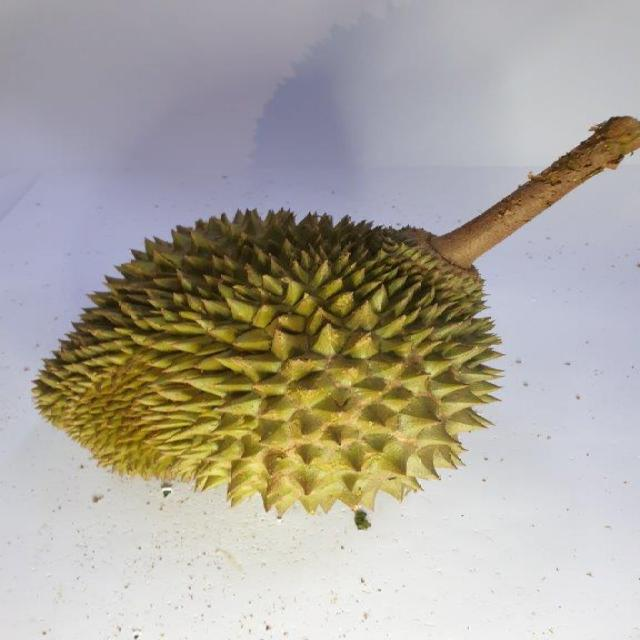immature: (26, 208, 508, 516)
